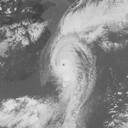cyclone: (50, 37, 96, 90)
